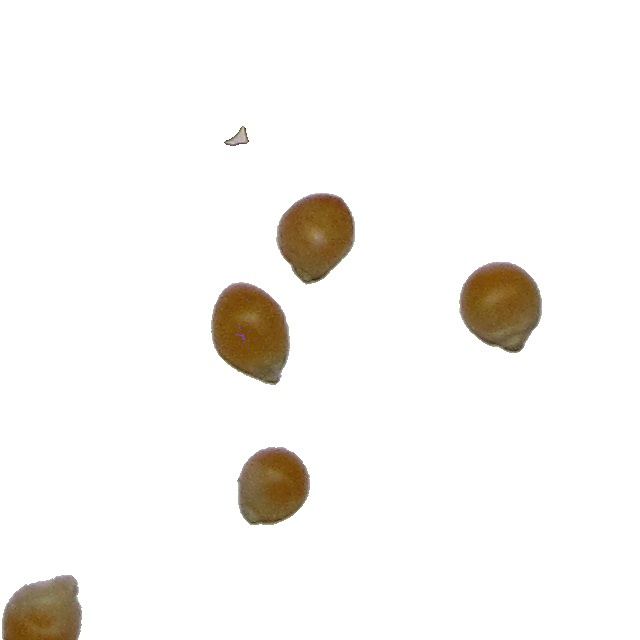mais: (210, 281, 291, 386), (458, 261, 543, 354), (275, 192, 356, 286), (236, 446, 311, 526), (1, 574, 83, 640)
other: (223, 125, 250, 147)
